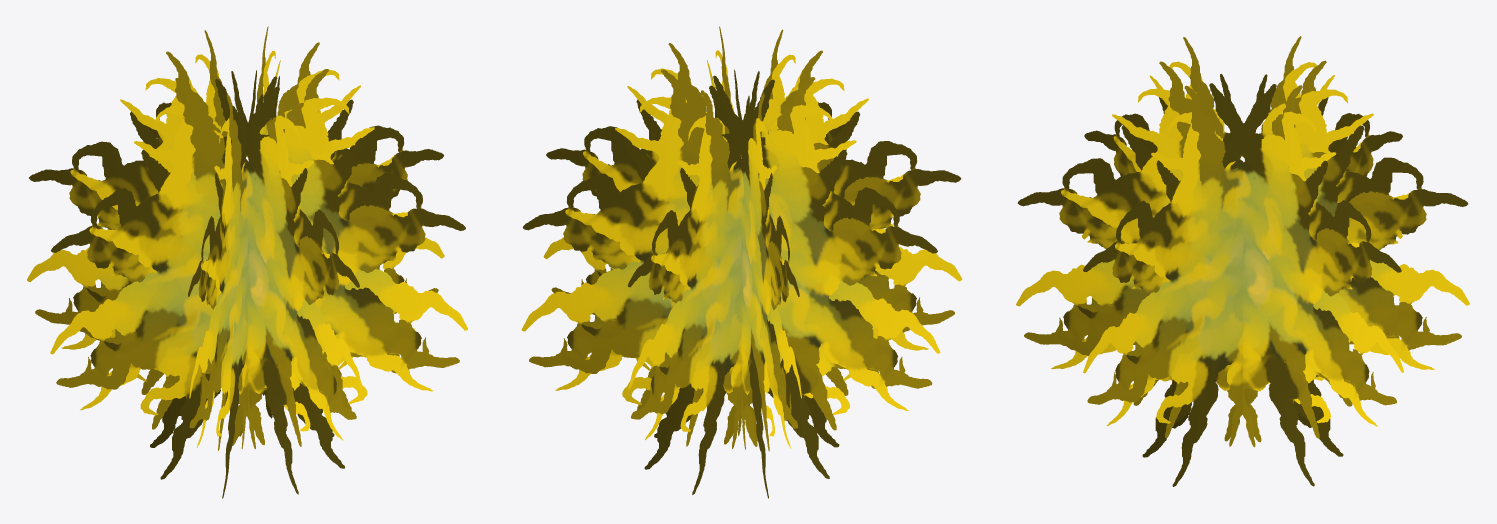
The model's file is HP3_weed054 1.fbx.
3 views of the same model, side by side, from view 1: azimuth 30°, elevation 25°; view 2: azimuth 150°, elevation 25°; view 3: azimuth 270°, elevation 25° (orthographic).
Visible parts, largest first — view 1: HP3_weed054; view 2: HP3_weed054; view 3: HP3_weed054.
Part boxes in pixels (box(x1,y1,x2,y2)): HP3_weed054: box(27, 26, 467, 498); HP3_weed054: box(521, 26, 962, 498); HP3_weed054: box(1016, 36, 1469, 486).
Size of the model in its own units: 10.29 by 9.79 by 10.29.
